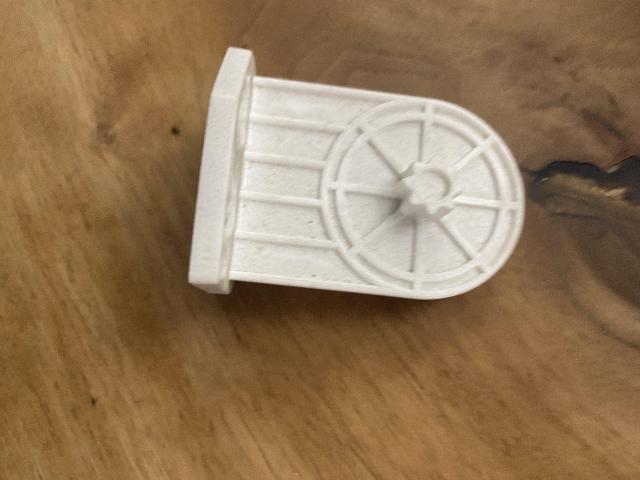Plastik: (186, 46, 527, 313)
